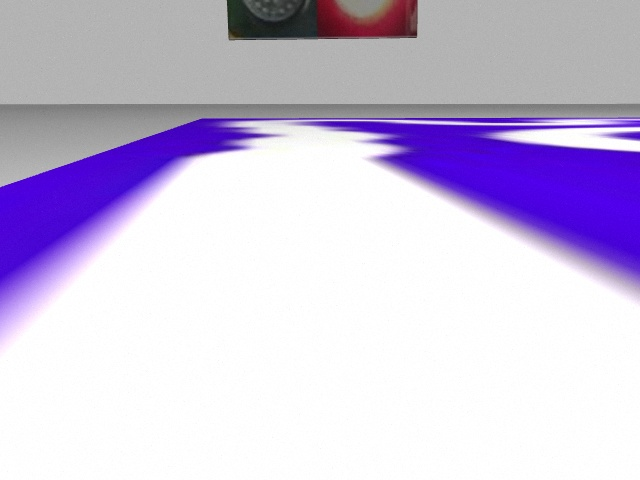red: (319, 1, 419, 36)
